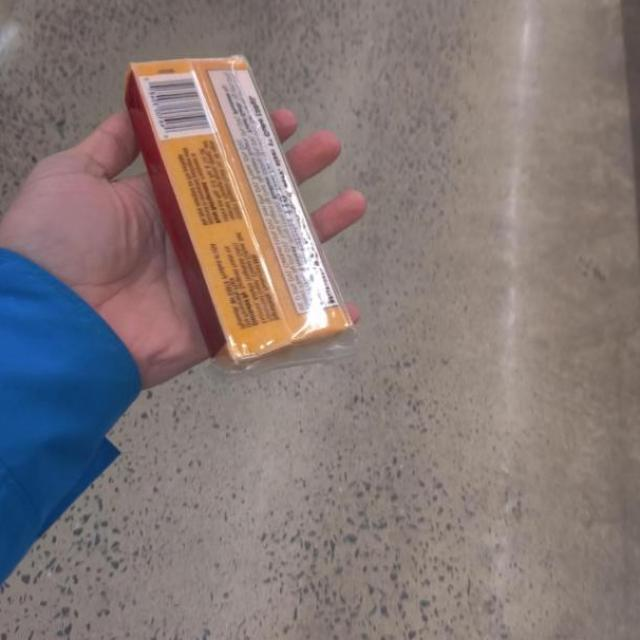Cheese: (104, 22, 372, 377)
